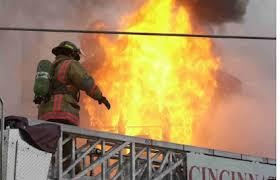fire: (87, 0, 228, 141)
